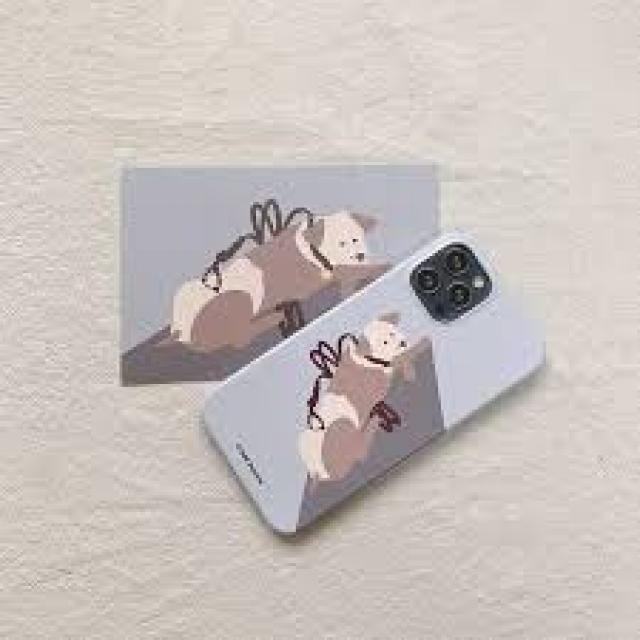lens: (415, 244, 490, 318)
phone: (203, 229, 546, 547)
